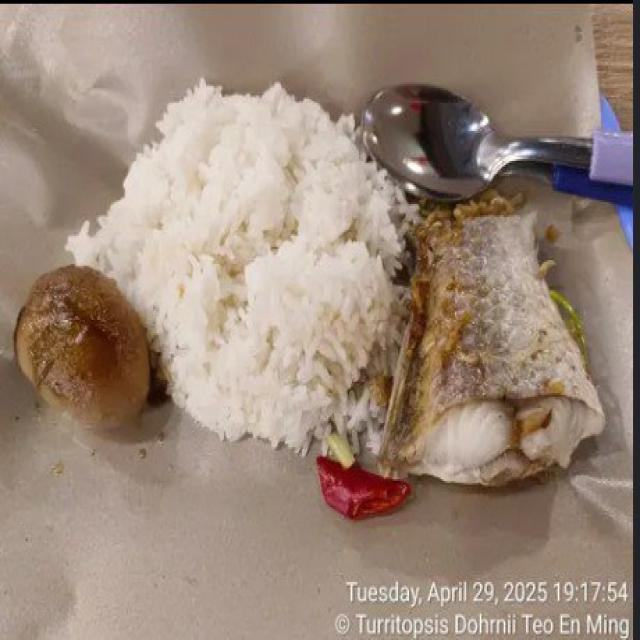Egg: (14, 266, 150, 423)
Fish: (378, 191, 604, 483)
Rice: (67, 80, 417, 453)
